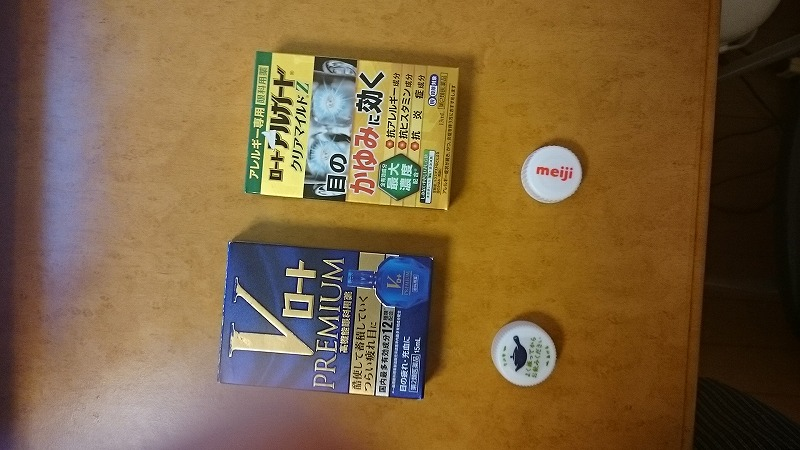A: (480, 315, 567, 387)
B: (511, 135, 591, 205)
C: (237, 51, 460, 215)
D: (214, 233, 435, 410)
